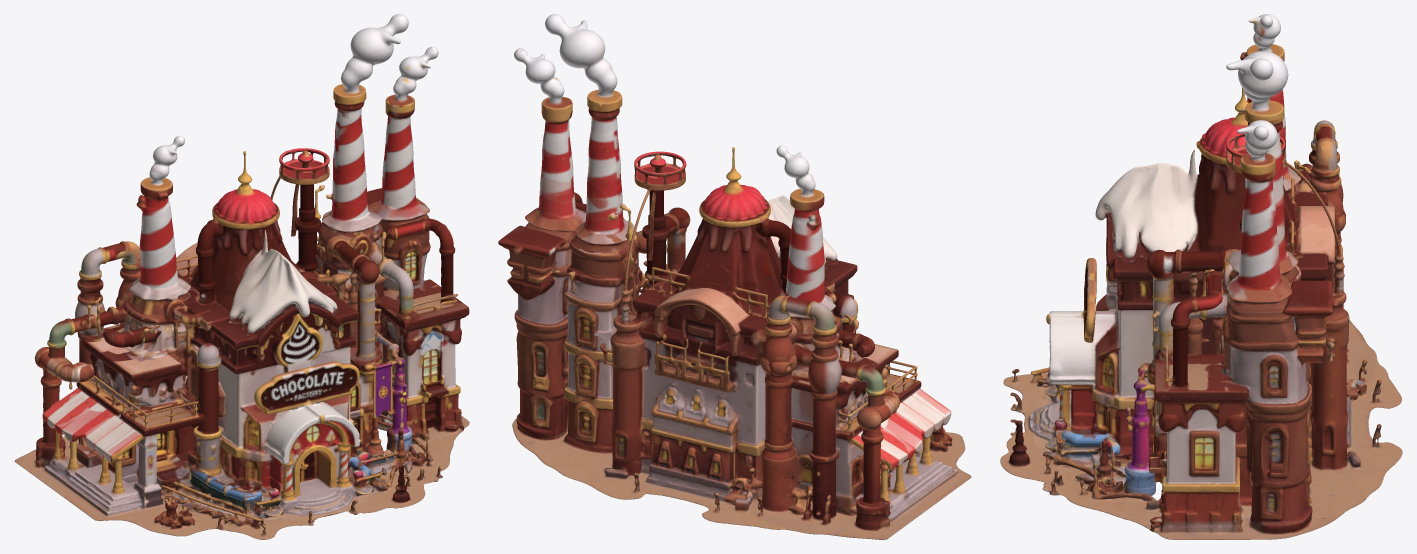
Rendered from Meshy_AI_Whimsical_Chocolate_F_1024085022_texture.fbx.
3 renders of one model, left to right at view 1: azimuth 30°, elevation 25°; view 2: azimuth 150°, elevation 25°; view 3: azimuth 270°, elevation 25°, orthographic. The views are drawn at different scales.
Parts seen in each view (by area): view 1: Mesh_0; view 2: Mesh_0; view 3: Mesh_0.
Part boxes in pixels (box(x1,y1,x2,y2)): Mesh_0: box(14, 14, 469, 539); Mesh_0: box(498, 14, 971, 539); Mesh_0: box(1000, 14, 1402, 539).
Size of the model in its own units: 188 by 180 by 142.
1 material, 1 textured.
